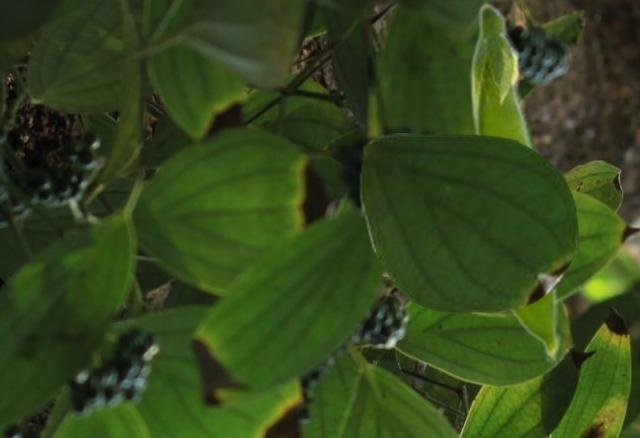pea: (469, 1, 561, 362)
